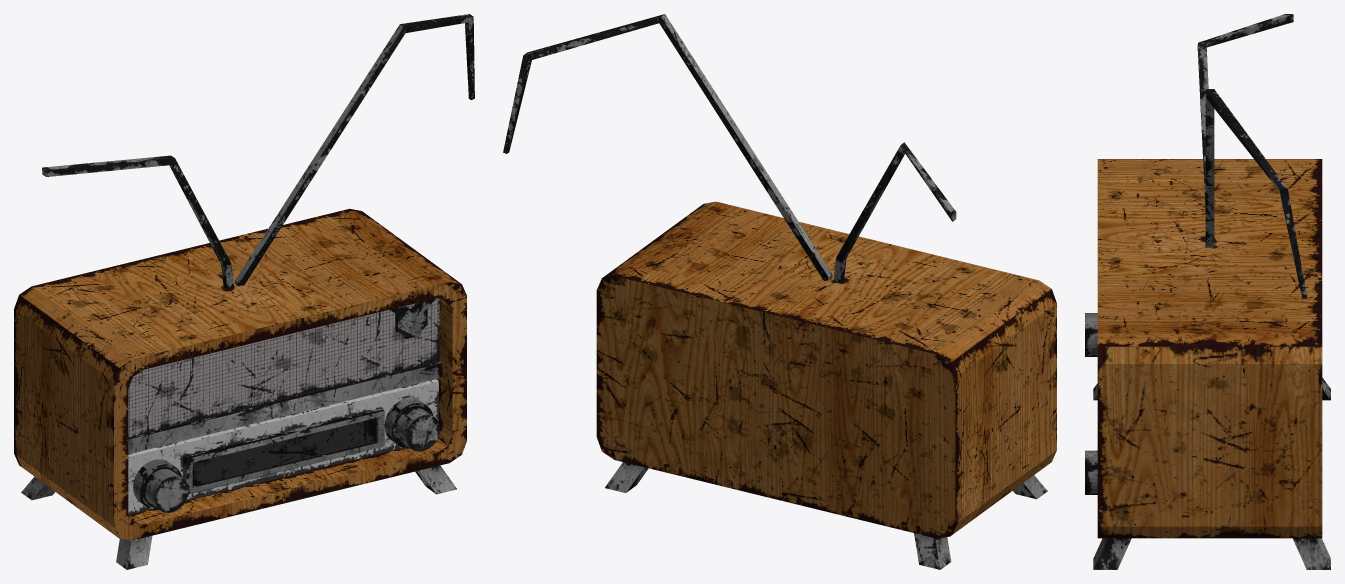
The model's file is radio.fbx.
3 renders of one model, left to right at view 1: azimuth 30°, elevation 25°; view 2: azimuth 150°, elevation 25°; view 3: azimuth 270°, elevation 25°, orthographic. The views are drawn at different scales.
Parts seen in each view (by area): view 1: Cube.001; view 2: Cube.001; view 3: Cube.001.
Boxes of the visible parts, bbox=[...] form: Cube.001: bbox=[14, 14, 474, 569]; Cube.001: bbox=[503, 14, 1056, 569]; Cube.001: bbox=[1085, 14, 1330, 569].
Size of the model in its own units: 522 by 471 by 219.
1 material, 1 textured.
